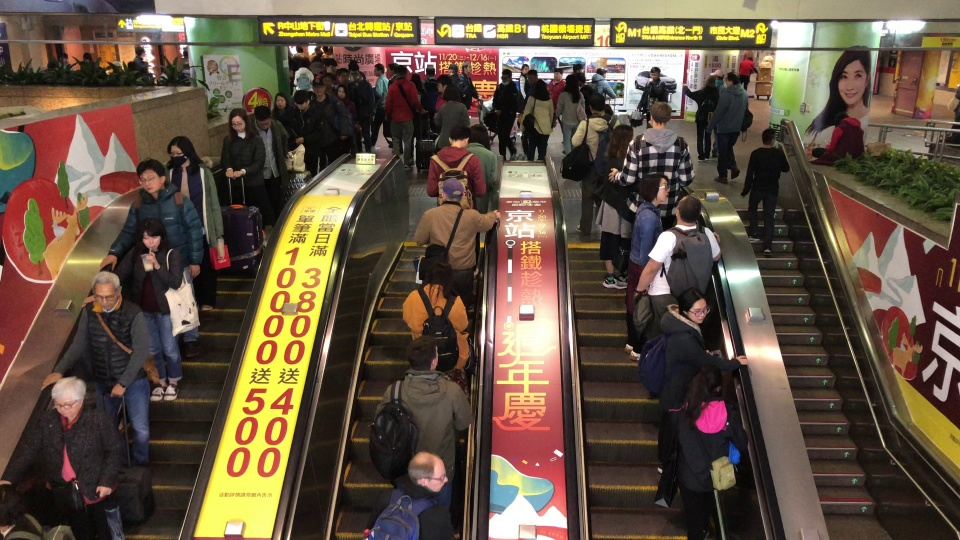person_head: (419, 245, 460, 309), (688, 373, 726, 429), (408, 448, 451, 496), (168, 137, 201, 188), (404, 334, 446, 373), (88, 268, 124, 312), (52, 376, 83, 424), (133, 152, 166, 193), (679, 287, 707, 329), (137, 213, 166, 252), (229, 108, 253, 148), (608, 125, 632, 164), (674, 196, 702, 229), (644, 172, 671, 206), (273, 89, 291, 134), (438, 178, 465, 204), (447, 121, 471, 148), (468, 122, 491, 150), (649, 102, 671, 128), (564, 75, 579, 104), (254, 105, 271, 130), (588, 93, 606, 115), (441, 84, 462, 102), (294, 89, 311, 111), (830, 106, 846, 129), (310, 76, 326, 97), (762, 124, 774, 149), (534, 79, 547, 102), (324, 52, 336, 74), (347, 59, 359, 80), (500, 67, 513, 85), (724, 71, 737, 87), (371, 62, 383, 79), (395, 62, 407, 79), (337, 64, 347, 84), (649, 65, 660, 82), (520, 61, 531, 77), (445, 62, 458, 75), (425, 64, 436, 79), (528, 69, 537, 87), (412, 70, 421, 88), (703, 75, 713, 91), (337, 87, 347, 103), (134, 46, 145, 60), (713, 67, 724, 81), (574, 71, 585, 85), (553, 65, 563, 80), (385, 62, 395, 77), (572, 60, 584, 72), (596, 66, 607, 78), (462, 61, 472, 73), (60, 52, 68, 64), (296, 43, 303, 55), (746, 54, 753, 64), (298, 60, 306, 68)
person_vbox: (37, 262, 157, 527), (108, 145, 205, 370), (641, 284, 727, 510), (635, 190, 722, 407), (94, 210, 191, 404), (671, 370, 762, 540), (33, 370, 123, 540), (374, 332, 472, 488), (160, 127, 227, 337), (414, 177, 497, 318), (396, 243, 472, 377), (365, 441, 466, 540), (426, 124, 486, 277), (608, 102, 696, 206), (623, 172, 671, 354), (220, 106, 264, 259), (741, 121, 788, 257), (597, 121, 635, 288), (570, 92, 608, 244), (245, 103, 289, 218), (706, 70, 746, 184), (386, 60, 417, 169), (466, 122, 499, 214), (290, 90, 323, 181), (518, 79, 554, 161), (490, 66, 521, 160), (556, 75, 589, 159), (682, 74, 713, 163), (434, 85, 470, 151), (309, 74, 332, 175), (826, 104, 862, 166), (369, 60, 393, 151), (638, 65, 671, 131), (334, 84, 362, 156), (270, 88, 295, 146), (420, 62, 437, 139), (546, 65, 566, 128), (589, 64, 616, 104), (576, 73, 596, 119), (461, 60, 479, 111), (292, 58, 315, 94), (944, 90, 959, 143), (738, 53, 758, 92), (128, 46, 148, 77), (446, 59, 463, 93), (707, 65, 724, 96), (77, 52, 99, 75), (409, 69, 422, 103), (517, 61, 528, 100), (606, 102, 621, 130), (383, 58, 395, 90), (58, 51, 74, 71), (309, 53, 325, 72), (182, 48, 190, 80), (360, 69, 372, 90), (111, 55, 122, 77), (46, 54, 59, 71), (309, 46, 318, 59), (314, 47, 323, 59), (322, 44, 328, 58), (328, 45, 333, 58)
